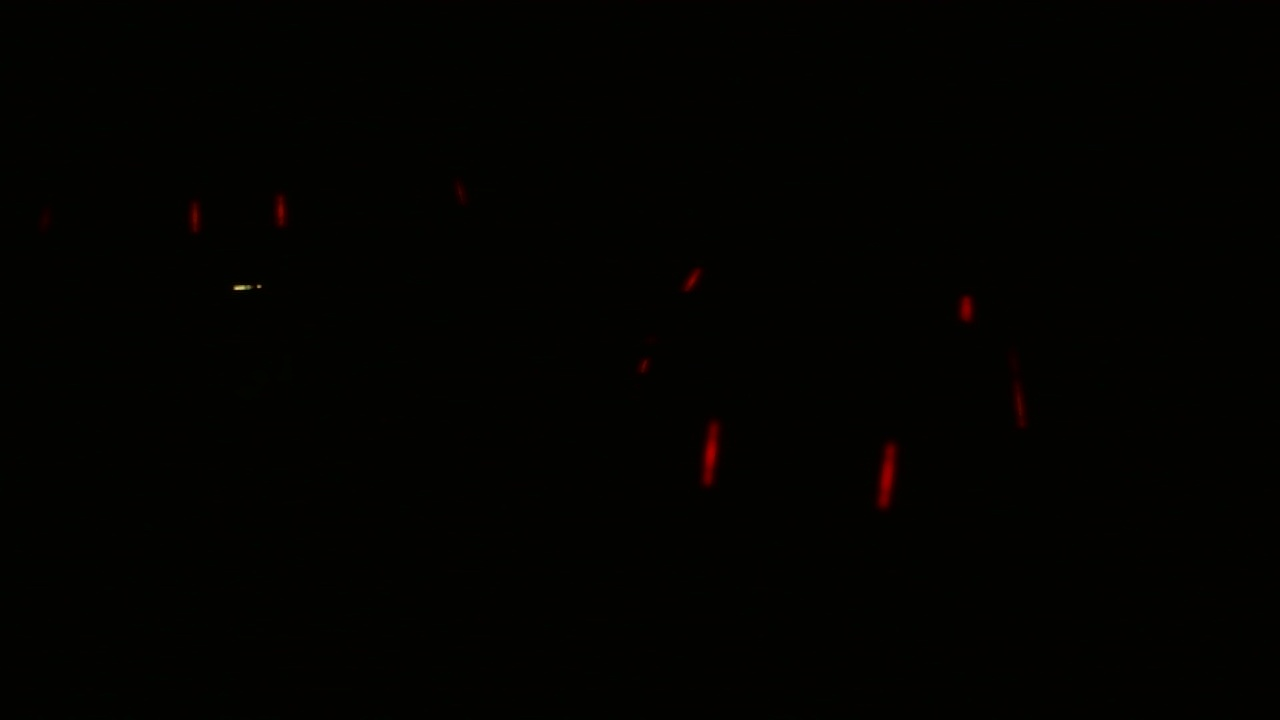pair1: (183, 190, 294, 244)
pair2: (688, 413, 908, 521)
